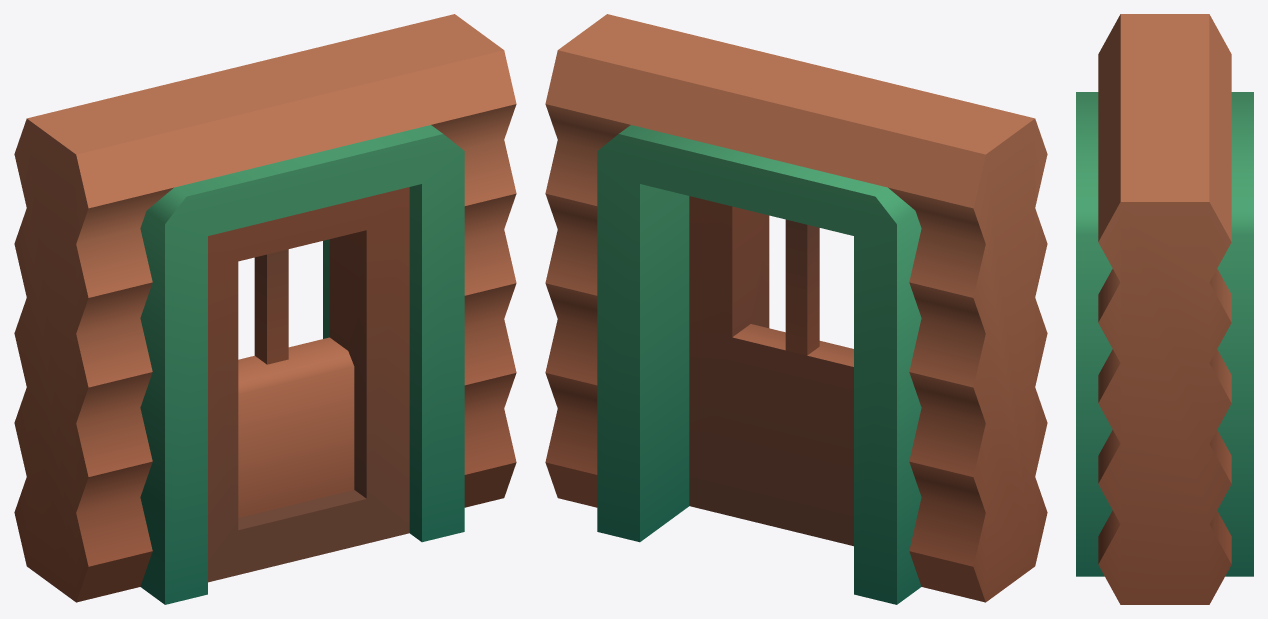
Rendered from cabin-door-rotate.glb.
3 renders of one model, left to right at view 1: azimuth 30°, elevation 25°; view 2: azimuth 150°, elevation 25°; view 3: azimuth 270°, elevation 25°, orthographic. The views are drawn at different scales.
Parts seen in each view (by area): view 1: cabin-door-rotate, door; view 2: cabin-door-rotate, door; view 3: cabin-door-rotate.
Boxes of the visible parts, x1,y1,x2,y2 form: cabin-door-rotate: (14, 14, 516, 604); door: (208, 187, 409, 582); cabin-door-rotate: (545, 14, 1047, 604); door: (689, 196, 853, 546); cabin-door-rotate: (1076, 14, 1253, 604).
Size of the model in its own units: 1 by 1 by 0.4.
